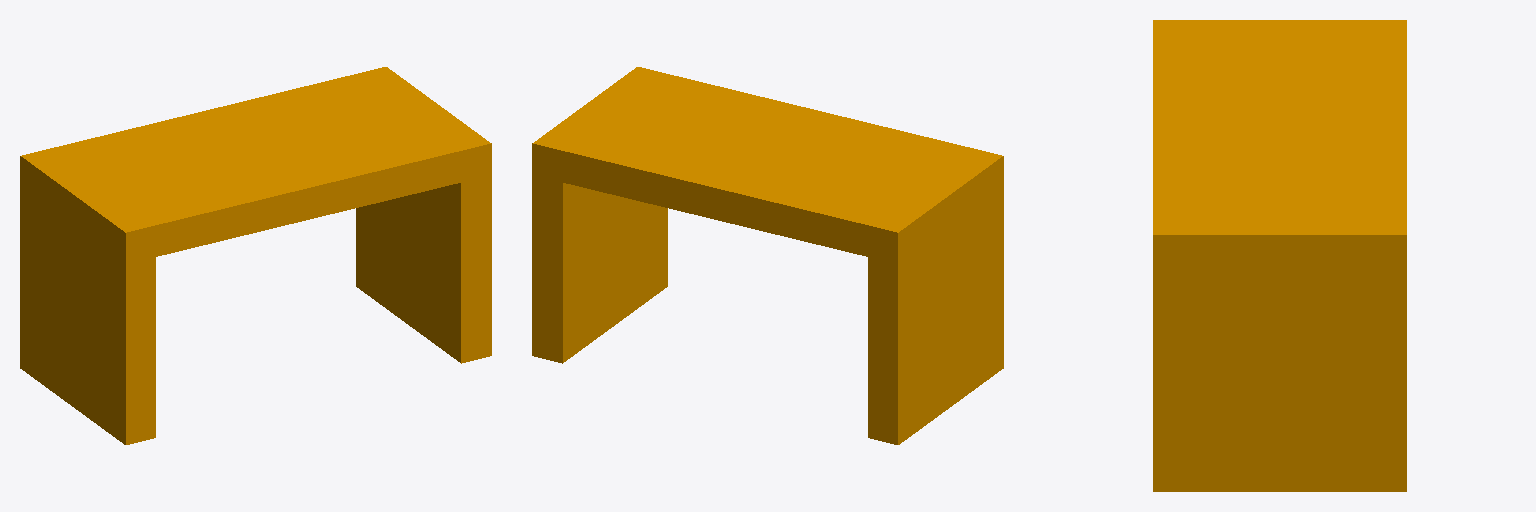
The robot description file, URDF, robot "table1.off":
<?xml version="1.0"?>
<robot name="table1.off">
	<link name="table1.off">
		<inertial>
			<!--origin xyz="0 0 0" rpy="0 0 0" /-->
			<mass value="0.5" />
			<!--inertia ixx="0.000360" ixy="0" ixz="0" iyy="0.0000615" iyz="0" izz="0.00036" /-->
		</inertial>
    		<visual>
	      		<!--origin rpy="0 0 0" xyz="0 0 0"/-->
      			<geometry>
        			<mesh filename="table1.off.obj"/>
      			</geometry>
         	</visual>
    		<collision>
      			<!--origin rpy="0 0 0" xyz="0 0 0"/-->
      			<geometry>
        			<mesh filename="table1.off.obj"/>
      			</geometry>
    		</collision>
	</link>
</robot>

--- What the picture shows (computed from the rendered views, not written in the file) ---
3 views of the same robot in one strip: view 1: azimuth 30°, elevation 25°; view 2: azimuth 150°, elevation 25°; view 3: azimuth 270°, elevation 25° (orthographic).
Model table1.off with 1 links and 0 joints (none), rooted at table1.off, posed every joint at zero.
Visible links, largest first — view 1: table1.off; view 2: table1.off; view 3: table1.off.
Link boxes in pixels (x1,y1,x2,y2): table1.off: [20, 67, 491, 444]; table1.off: [532, 67, 1003, 444]; table1.off: [1153, 20, 1406, 491].
Bounding box of the posed robot: 1.21 × 0.6 × 0.67 m (x, y, z).
1 mesh visuals loaded from 1 distinct referenced files (1 OBJ).